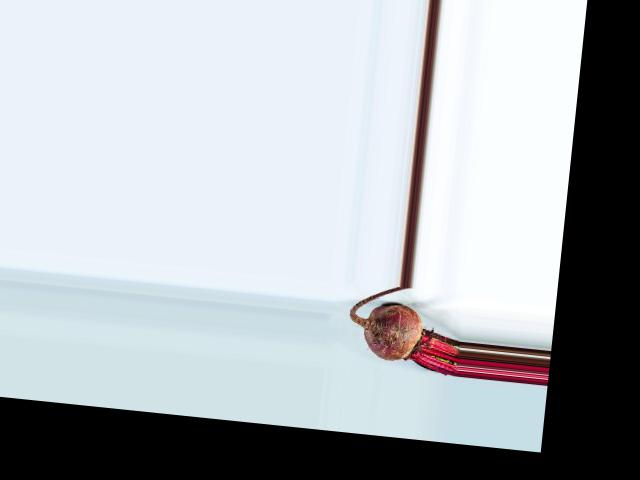beet: (345, 282, 466, 376)
